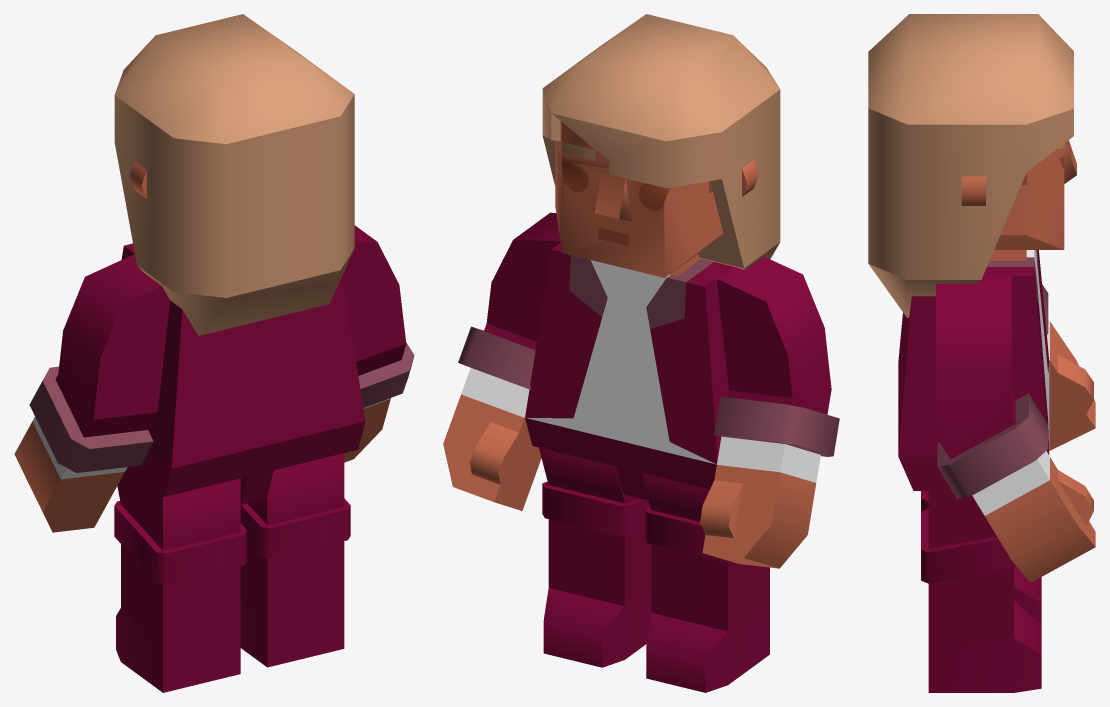
Rendered from scientifique.glb.
The picture shows the model from 3 angles, left to right: view 1: azimuth 30°, elevation 25°; view 2: azimuth 150°, elevation 25°; view 3: azimuth 270°, elevation 25°; orthographic projection.
Visible parts, largest first — view 1: mergedBlocks(Clone); view 2: mergedBlocks(Clone); view 3: mergedBlocks(Clone).
Boxes of the visible parts, bbox=[...] form: mergedBlocks(Clone): bbox=[14, 14, 414, 692]; mergedBlocks(Clone): bbox=[443, 14, 839, 692]; mergedBlocks(Clone): bbox=[868, 14, 1095, 692].
Size of the model in its own units: 0.5421 by 0.8964 by 0.3016.
Materials: 1 (1 with a texture image).
